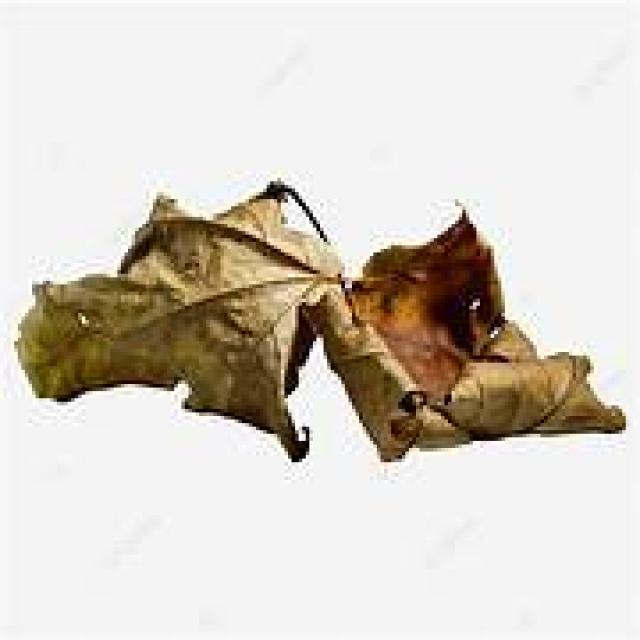Organik: (16, 182, 623, 461)
